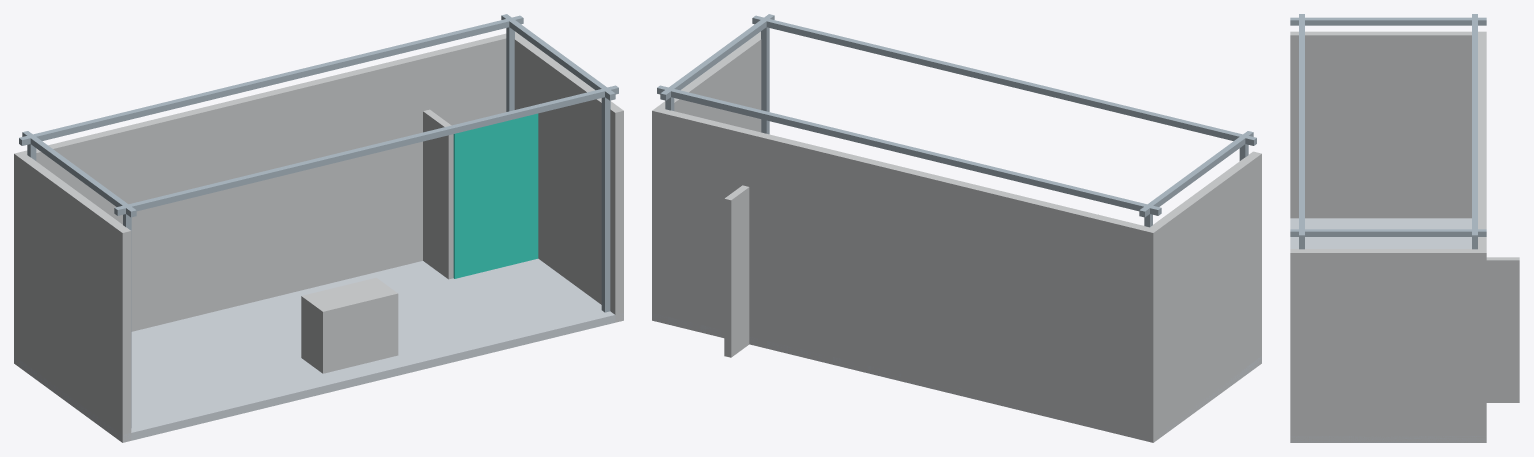
3 views of the same model, side by side, from view 1: azimuth 30°, elevation 25°; view 2: azimuth 150°, elevation 25°; view 3: azimuth 270°, elevation 25° (orthographic). The views are drawn at different scales.
Parts seen in each view (by area): view 1: Exhibition Booth Concept; view 2: Exhibition Booth Concept; view 3: Exhibition Booth Concept.
Part boxes in pixels (x1=…): Exhibition Booth Concept: x1=14, y1=14, x2=623, y2=442; Exhibition Booth Concept: x1=652, y1=14, x2=1261, y2=442; Exhibition Booth Concept: x1=1290, y1=14, x2=1519, y2=442.
Bounding box in the file's own units: 8 × 3.49 × 3.51.
